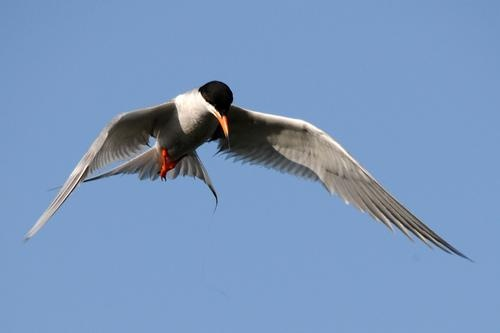bird: (14, 80, 471, 261)
